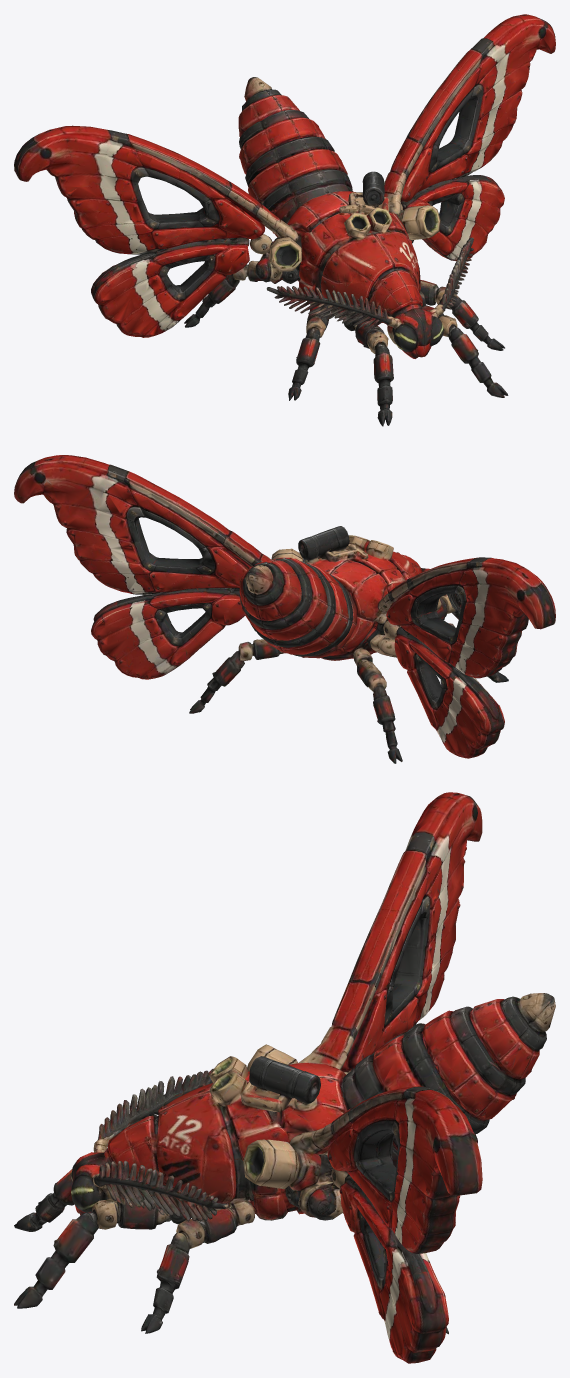
Rendered from atlas-moth.glb.
The picture shows the model from 3 angles, top to bottom: view 1: azimuth 30°, elevation 25°; view 2: azimuth 150°, elevation 25°; view 3: azimuth 270°, elevation 25°; orthographic projection. The views are drawn at different scales.
Size of the model in its own units: 3.4 by 1.37 by 2.13.
Materials: 1 (1 with a texture image).
